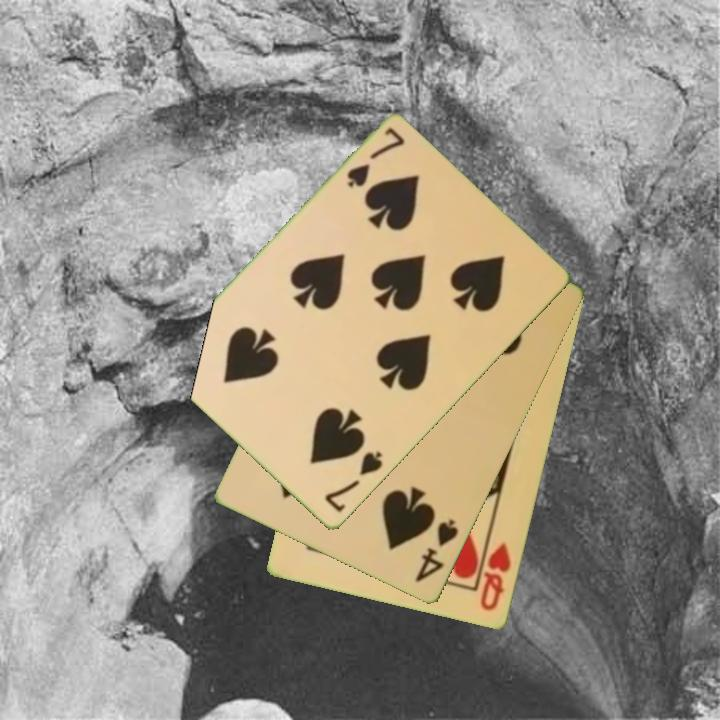4s: (411, 516, 462, 586)
7s: (321, 448, 386, 516), (343, 124, 408, 192)
Qh: (477, 540, 515, 614)
